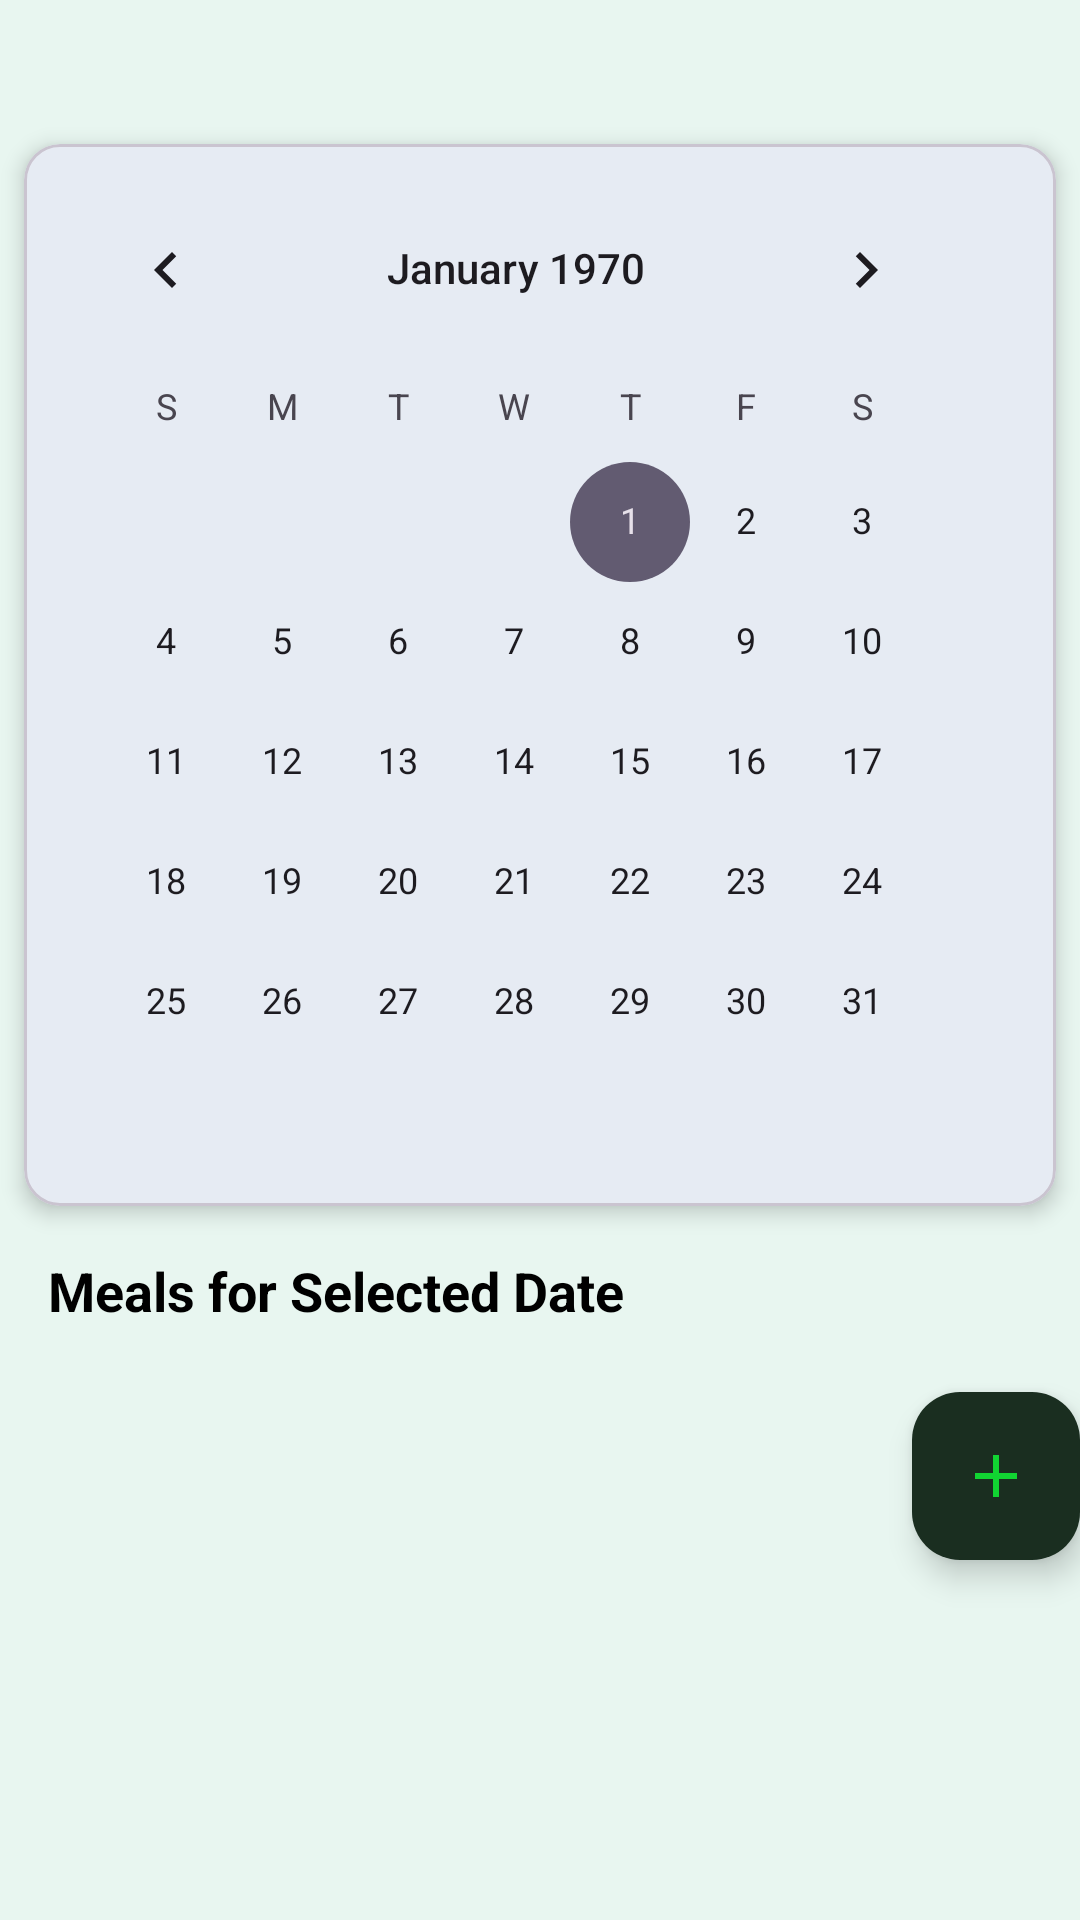

Point at icon controls on the screen. Image size 1080x1920, points as (x=x, y=y).
Add meal to calendar: (x=996, y=1476)
